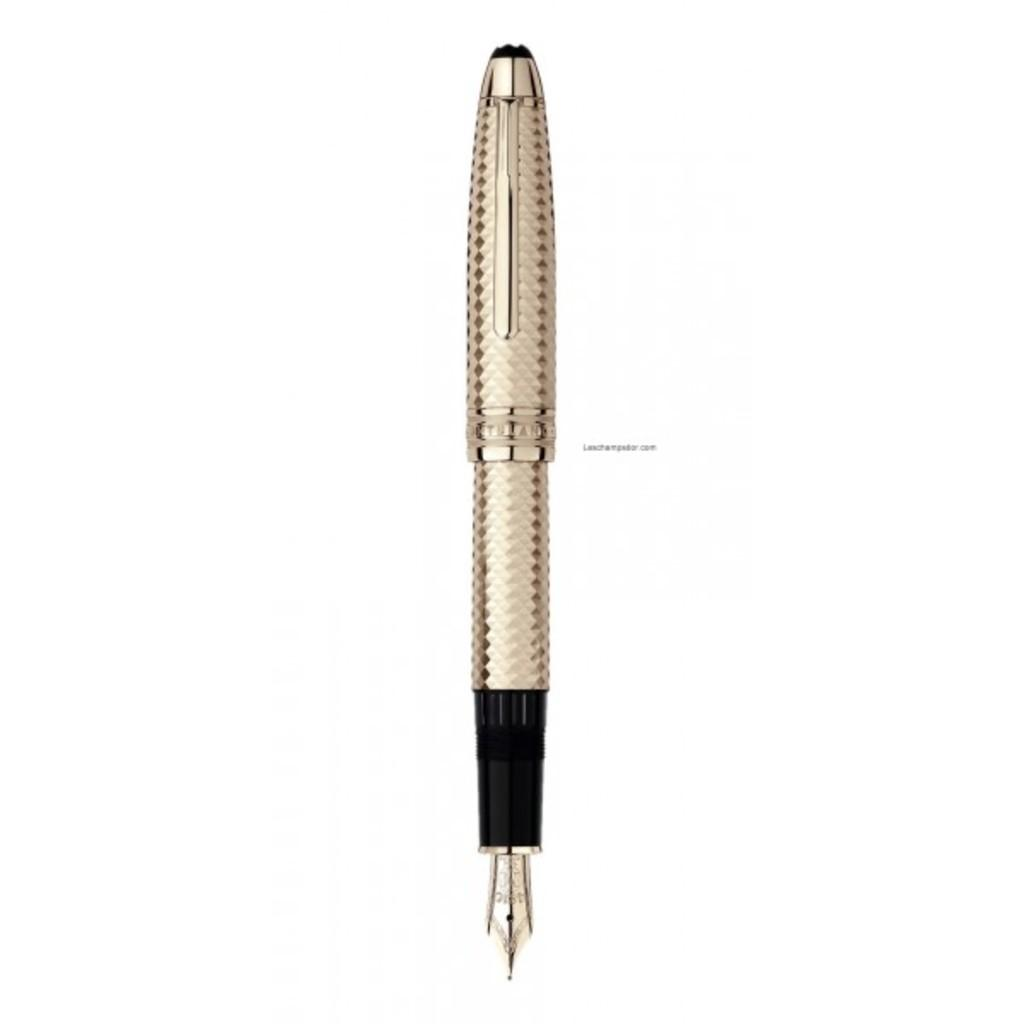pen: (461, 38, 553, 978)
